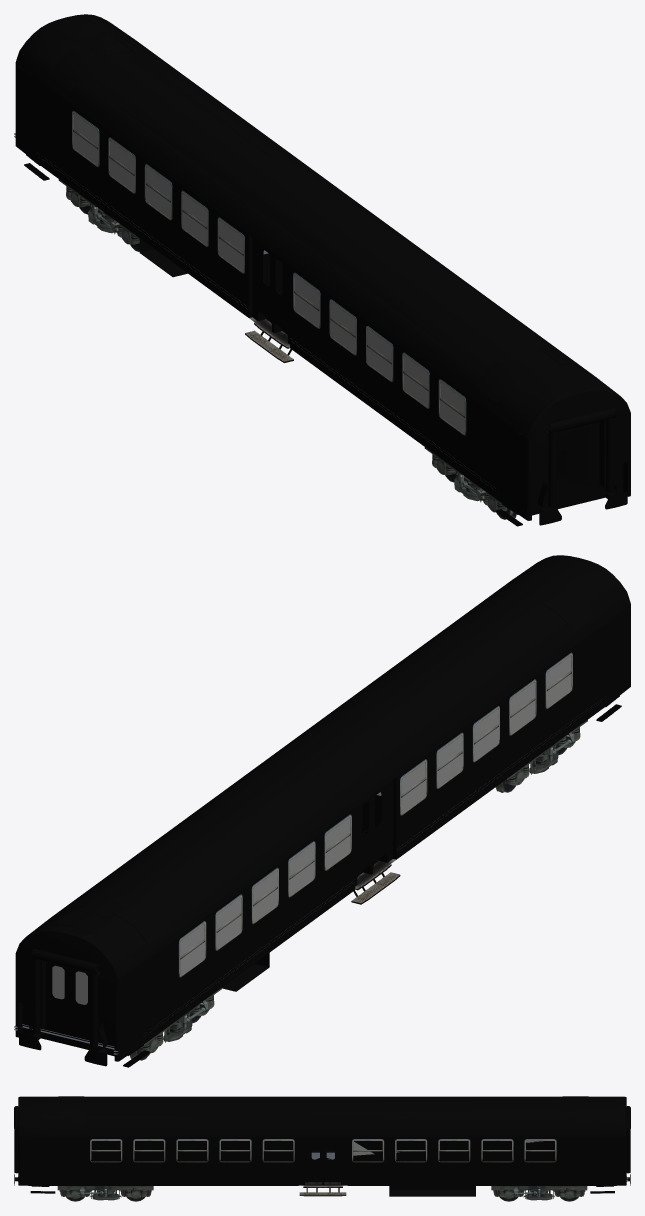
Rendered from 063_dvere.obj.
3 views of the same model, one above another, from view 1: azimuth 30°, elevation 25°; view 2: azimuth 150°, elevation 25°; view 3: azimuth 270°, elevation 25° (orthographic). The views are drawn at different scales.
Parts seen in each view (by area): view 1: Mesh_0000.009, Mesh_0012.001, Mesh_0016.001, Mesh_0005.001, BOGIE2, BOGIE1, Mesh_0002.001; view 2: Mesh_0000.009, Mesh_0012.001, Mesh_0016.001, Mesh_0005.001, Mesh_0007.001, BOGIE2, BOGIE1, Mesh_0002.001, Mesh_0001.008_Mesh_0001.013; view 3: Mesh_0000.009, Mesh_0005.001, Mesh_0016.001, BOGIE1, BOGIE2, Mesh_0002.001, Mesh_0001.004, Mesh_0001.003, Mesh_0001.000, Mesh_0001.005, Mesh_0003.001, Mesh_0012.001.
Part boxes in pixels (x1,y1,x2,y2): Mesh_0000.009: (15, 14, 630, 520); Mesh_0012.001: (73, 114, 464, 434); Mesh_0016.001: (49, 18, 587, 402); Mesh_0005.001: (72, 111, 466, 435); BOGIE2: (424, 447, 516, 518); BOGIE1: (58, 179, 139, 244); Mesh_0002.001: (24, 154, 522, 526); Mesh_0000.009: (15, 555, 630, 1061); Mesh_0012.001: (52, 656, 571, 1004); Mesh_0016.001: (55, 578, 595, 944); Mesh_0005.001: (178, 652, 572, 977); Mesh_0007.001: (22, 962, 114, 1046); BOGIE2: (495, 720, 587, 791); BOGIE1: (129, 988, 221, 1058); Mesh_0002.001: (123, 696, 621, 1067); Mesh_0001.008_Mesh_0001.013: (360, 795, 372, 871); Mesh_0000.009: (14, 1096, 630, 1196); Mesh_0005.001: (90, 1139, 556, 1162); Mesh_0016.001: (58, 1096, 617, 1129); BOGIE1: (491, 1186, 587, 1200); BOGIE2: (57, 1186, 153, 1200); Mesh_0002.001: (30, 1186, 614, 1196); Mesh_0001.004: (323, 1137, 337, 1178); Mesh_0001.003: (309, 1137, 323, 1178); Mesh_0001.000: (301, 1137, 309, 1178); Mesh_0001.005: (337, 1137, 344, 1178); Mesh_0003.001: (299, 1186, 346, 1195); Mesh_0012.001: (353, 1141, 542, 1155).
Bounding box in the file's own units: 3.2 × 4.04 × 24.48.
